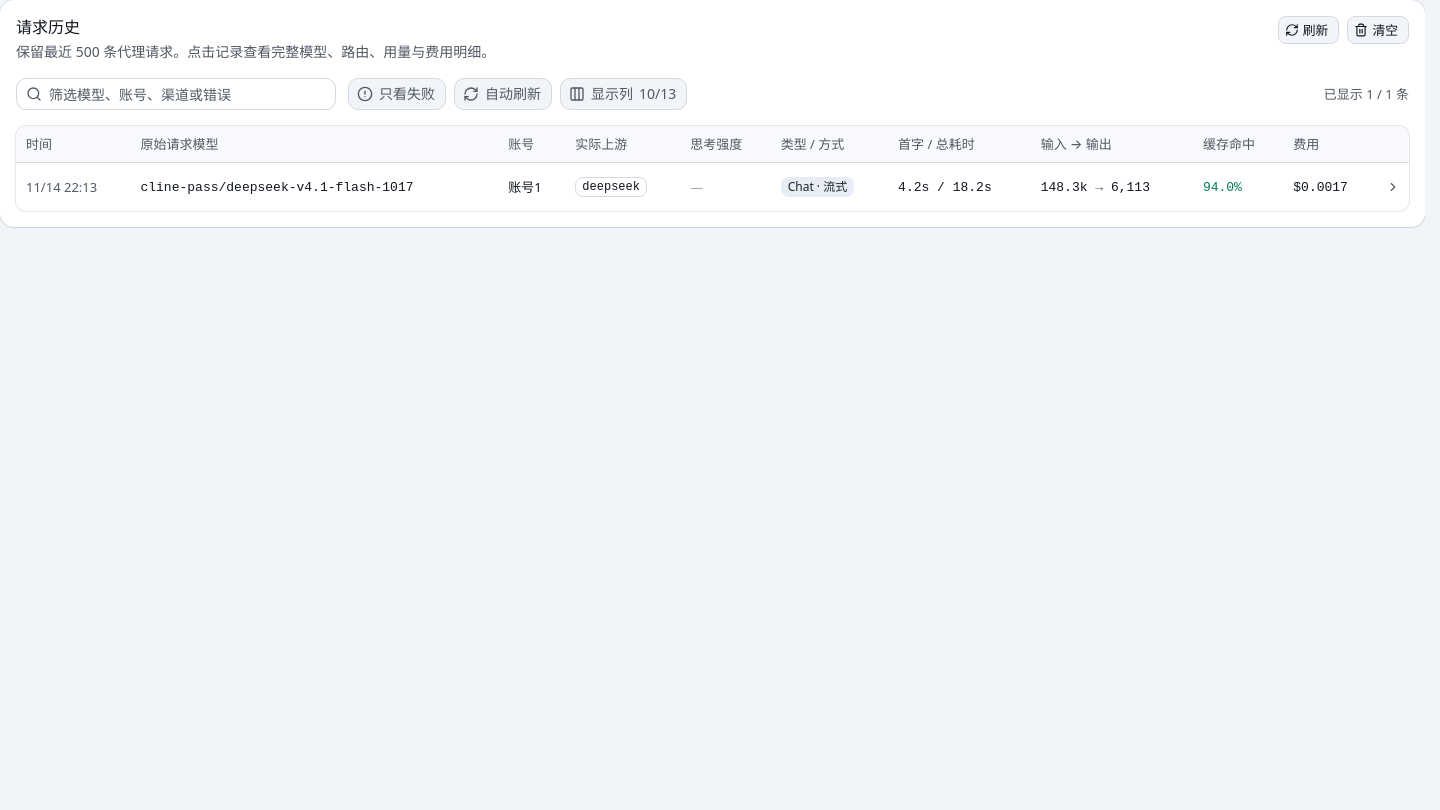
Test case: clicking a cache cell opens full details, and Escape closes them
Click the text "94.0%": (1222, 187) [1203,180,1242,194]
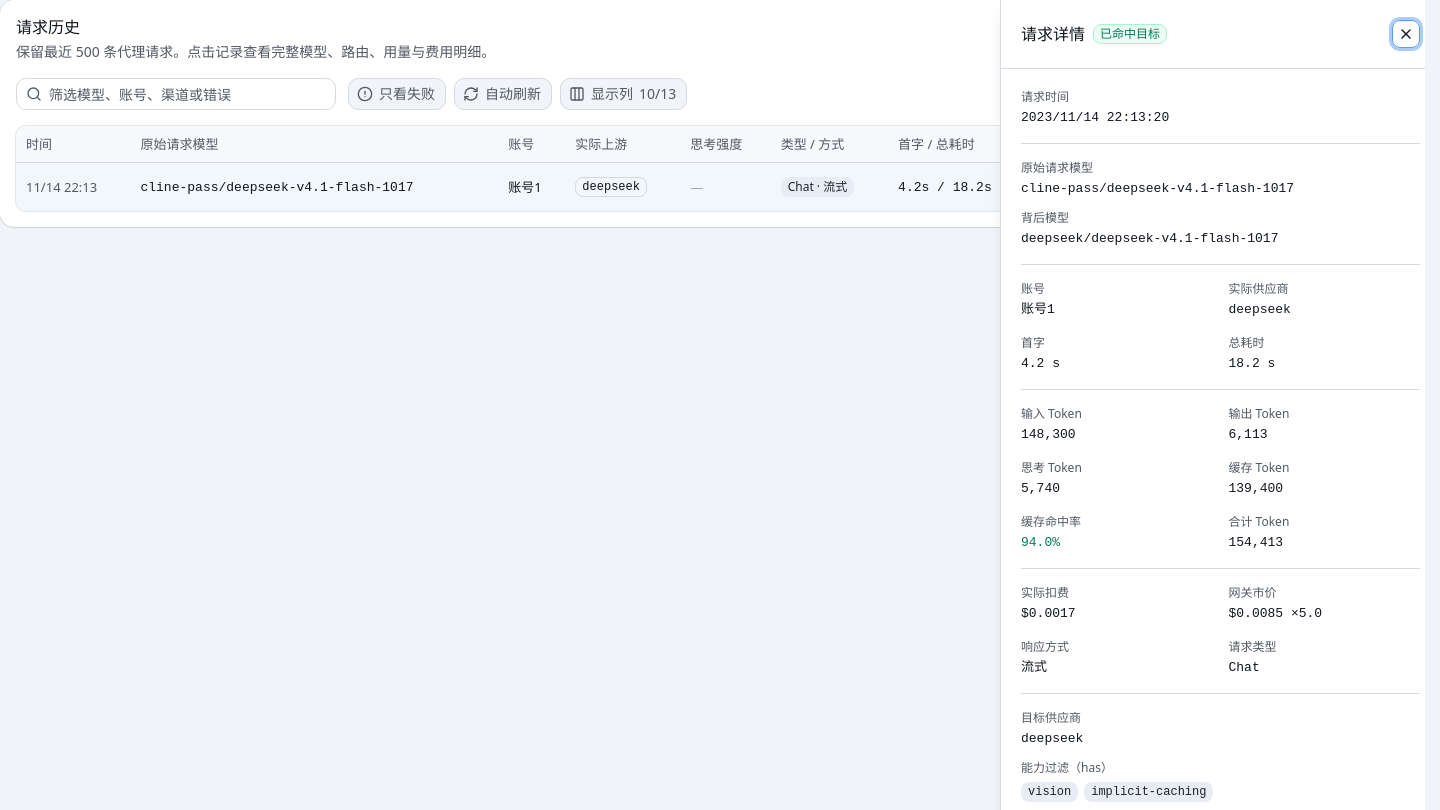
Check: the text "deepseek/deepseek-v4.1-flash-1017" is shown, box [1021,231,1278,246]
Check: the text "139,400" is shown, box [1228,481,1283,496]
Check: the text "5,740" is shown, box [1021,481,1060,496]
Press Escape in the button named "关闭详情", box [1392,20,1420,48]
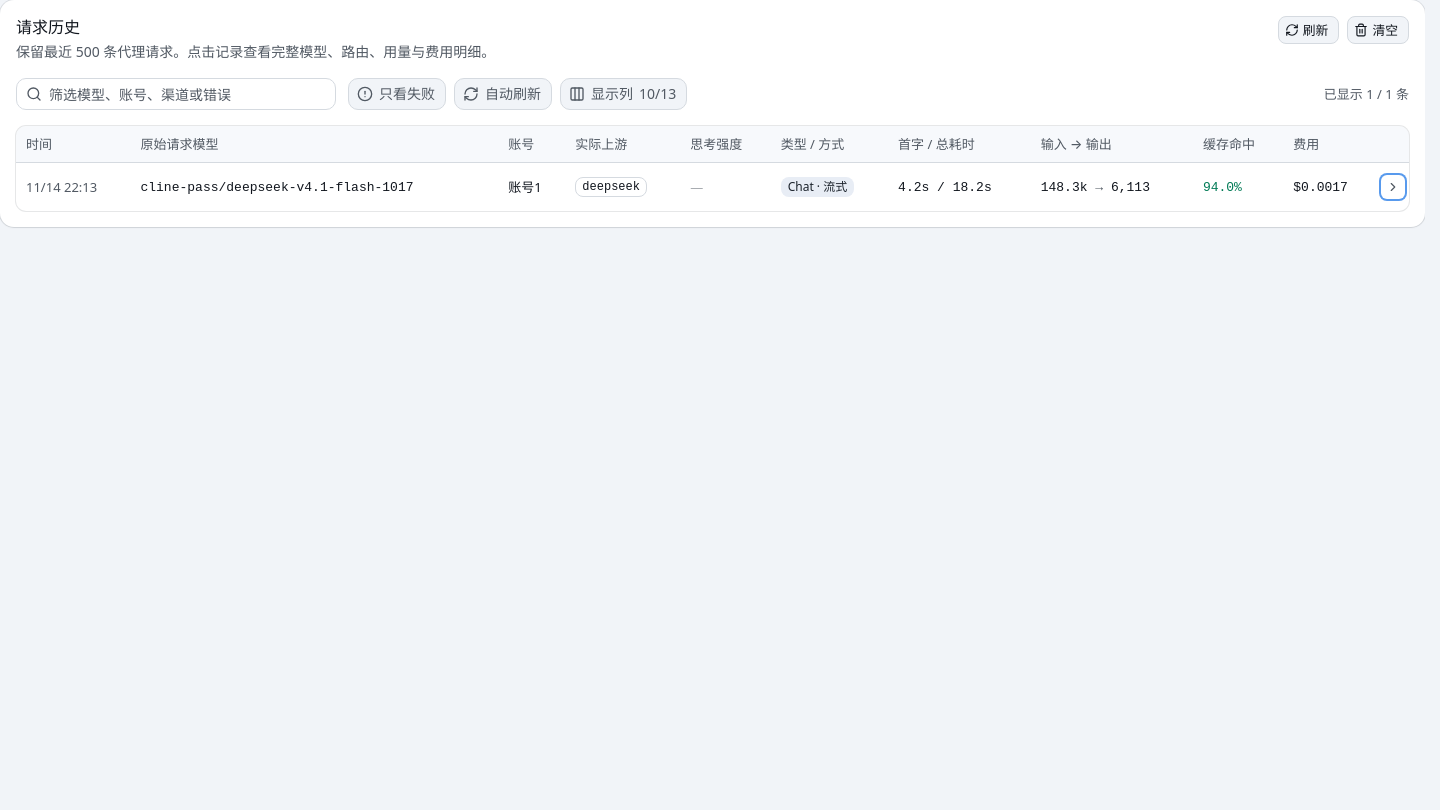
Check: the dialog is gone
